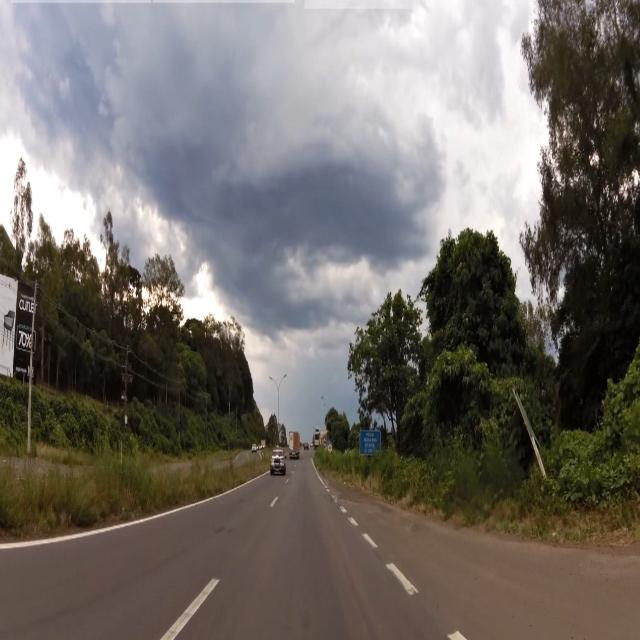LOC-6: (360, 428, 380, 454)
